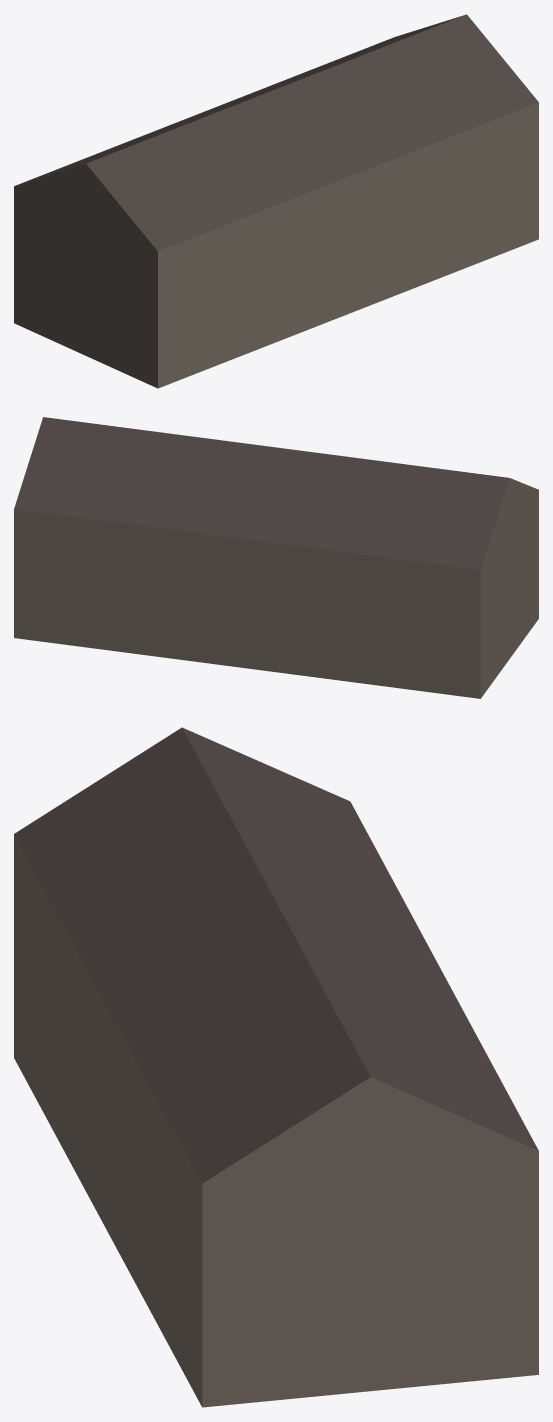
3 renders of one model, top to bottom at view 1: azimuth 30°, elevation 25°; view 2: azimuth 150°, elevation 25°; view 3: azimuth 270°, elevation 25°, orthographic. The views are drawn at different scales.
Parts seen in each view (by area): view 1: HP-w859488614; view 2: HP-w859488614; view 3: HP-w859488614.
Boxes of the visible parts, x1,y1,x2,y2 form: HP-w859488614: (14,14,538,388); HP-w859488614: (14,417,538,698); HP-w859488614: (14,727,538,1407).
Size of the model in its own units: 32.98 by 12.64 by 19.14.
